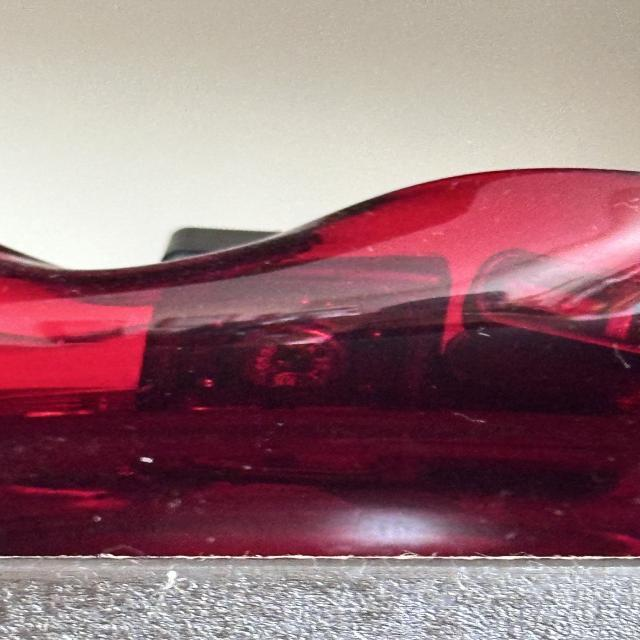hidden camera: (243, 321, 341, 397)
